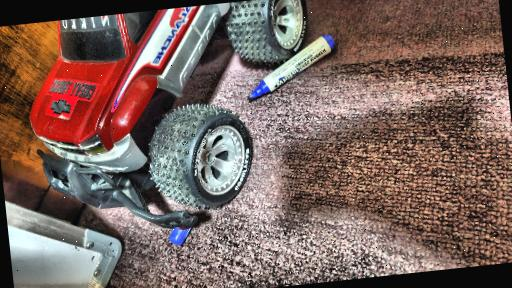marcador azul: (248, 35, 334, 99)
